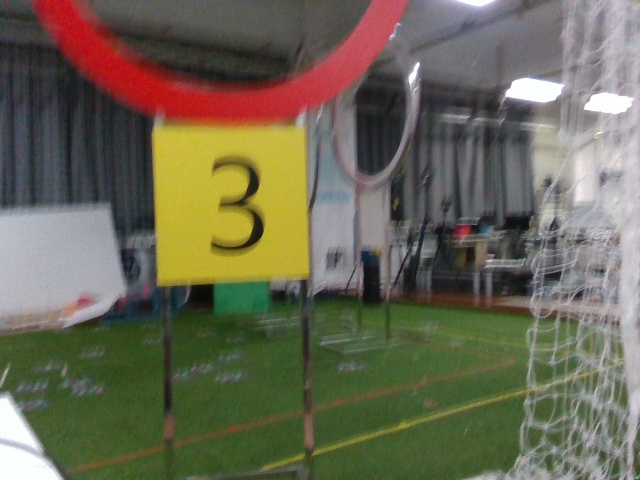target: (153, 137, 308, 274)
